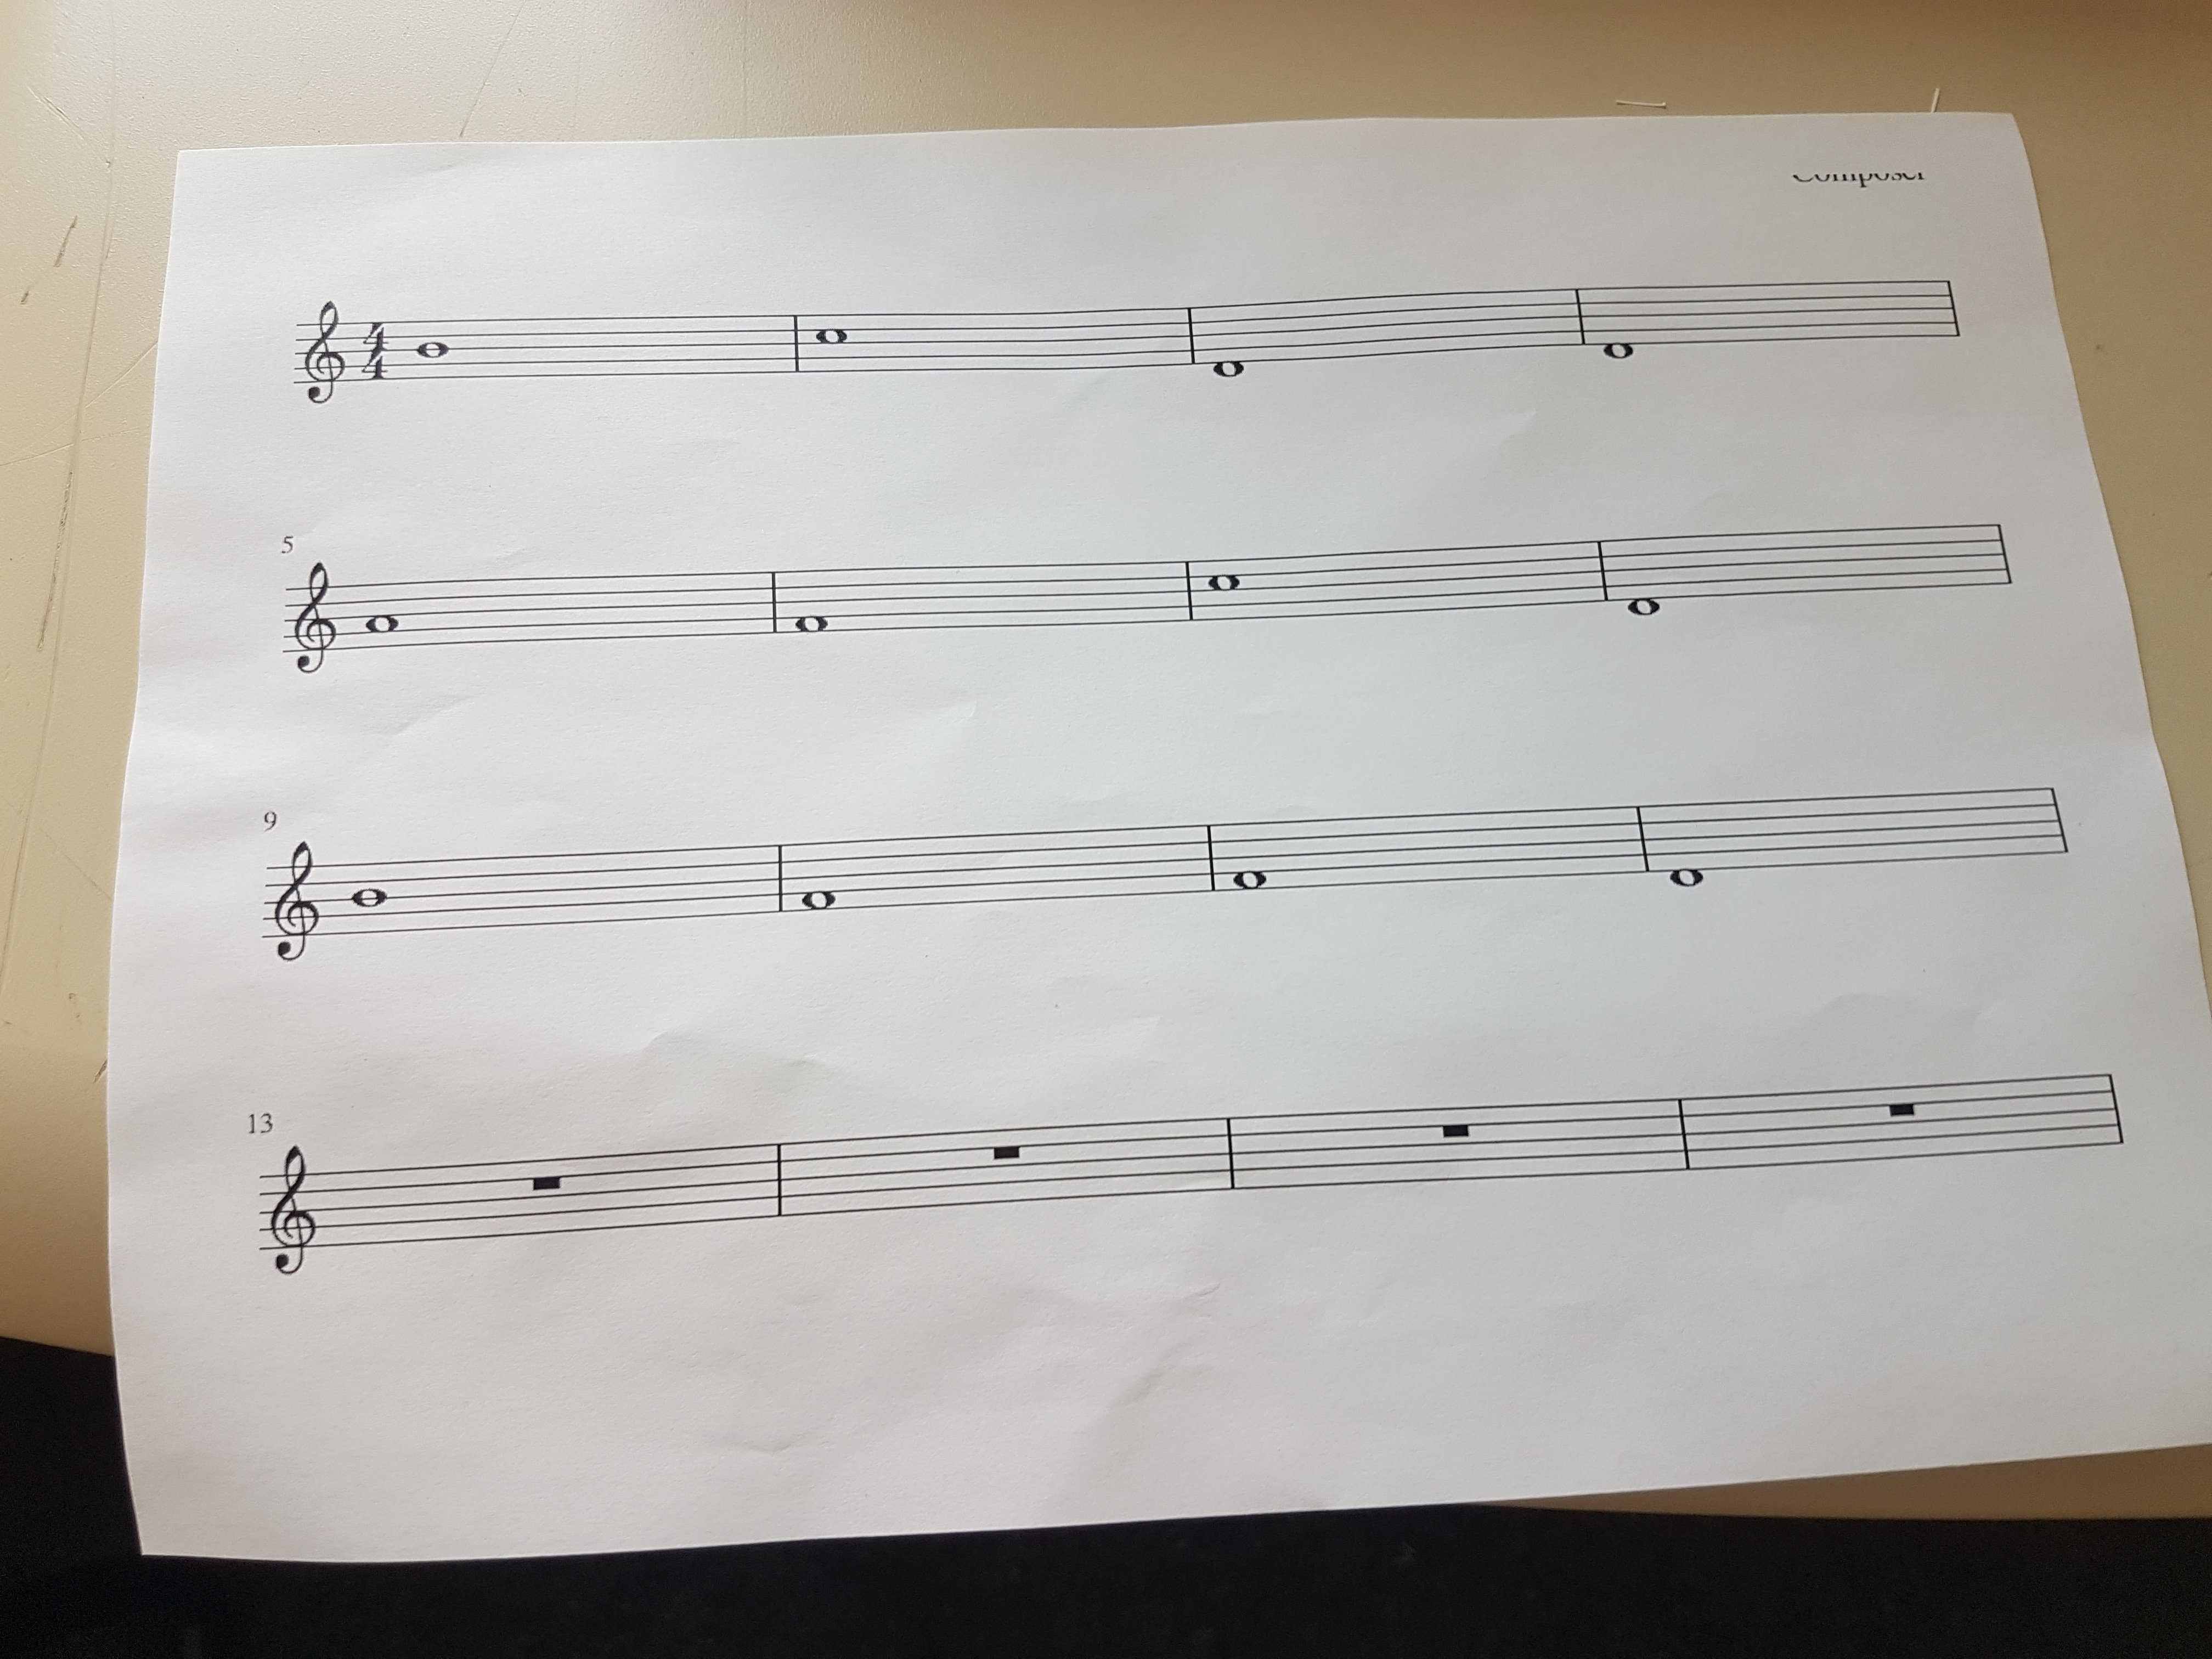key: (263, 1136, 326, 1288), (266, 836, 324, 969), (289, 556, 341, 681), (300, 289, 348, 413)
pipe: (1672, 1082, 1700, 1180), (1221, 1105, 1244, 1202), (768, 1131, 791, 1227), (1630, 793, 1655, 882), (1592, 526, 1616, 610), (770, 833, 791, 922), (1568, 281, 1592, 354), (1177, 547, 1198, 631), (763, 559, 784, 638), (1198, 816, 1219, 894), (784, 303, 805, 380), (1181, 298, 1200, 369)
semibreve_a: (361, 558, 406, 674)
semibreve_c: (1204, 542, 1244, 645), (812, 289, 852, 390)
semibreve_d: (1663, 779, 1709, 903), (1620, 514, 1663, 638), (1207, 282, 1252, 399), (1597, 272, 1639, 380)
semibreve_f: (1226, 795, 1275, 913), (798, 816, 841, 936), (791, 549, 831, 655)
semibreve_h: (345, 843, 392, 957), (408, 300, 456, 404)
